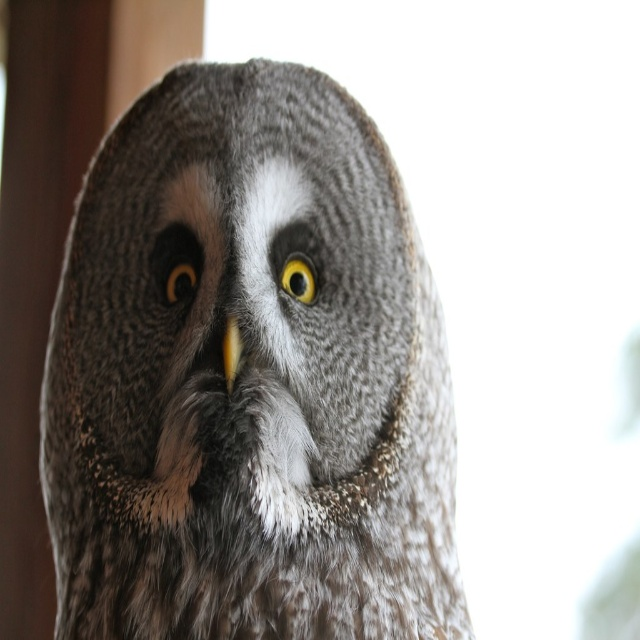Owl: (38, 56, 478, 640)
